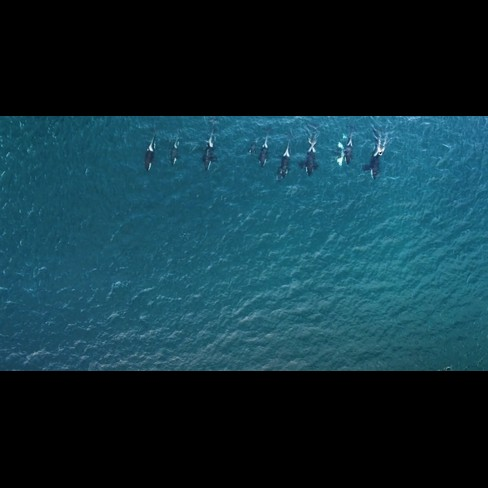orca: (361, 137, 388, 181), (200, 128, 221, 175), (137, 131, 159, 175), (302, 133, 321, 179), (277, 138, 294, 179), (254, 133, 271, 171), (341, 128, 357, 166), (167, 133, 180, 166)
